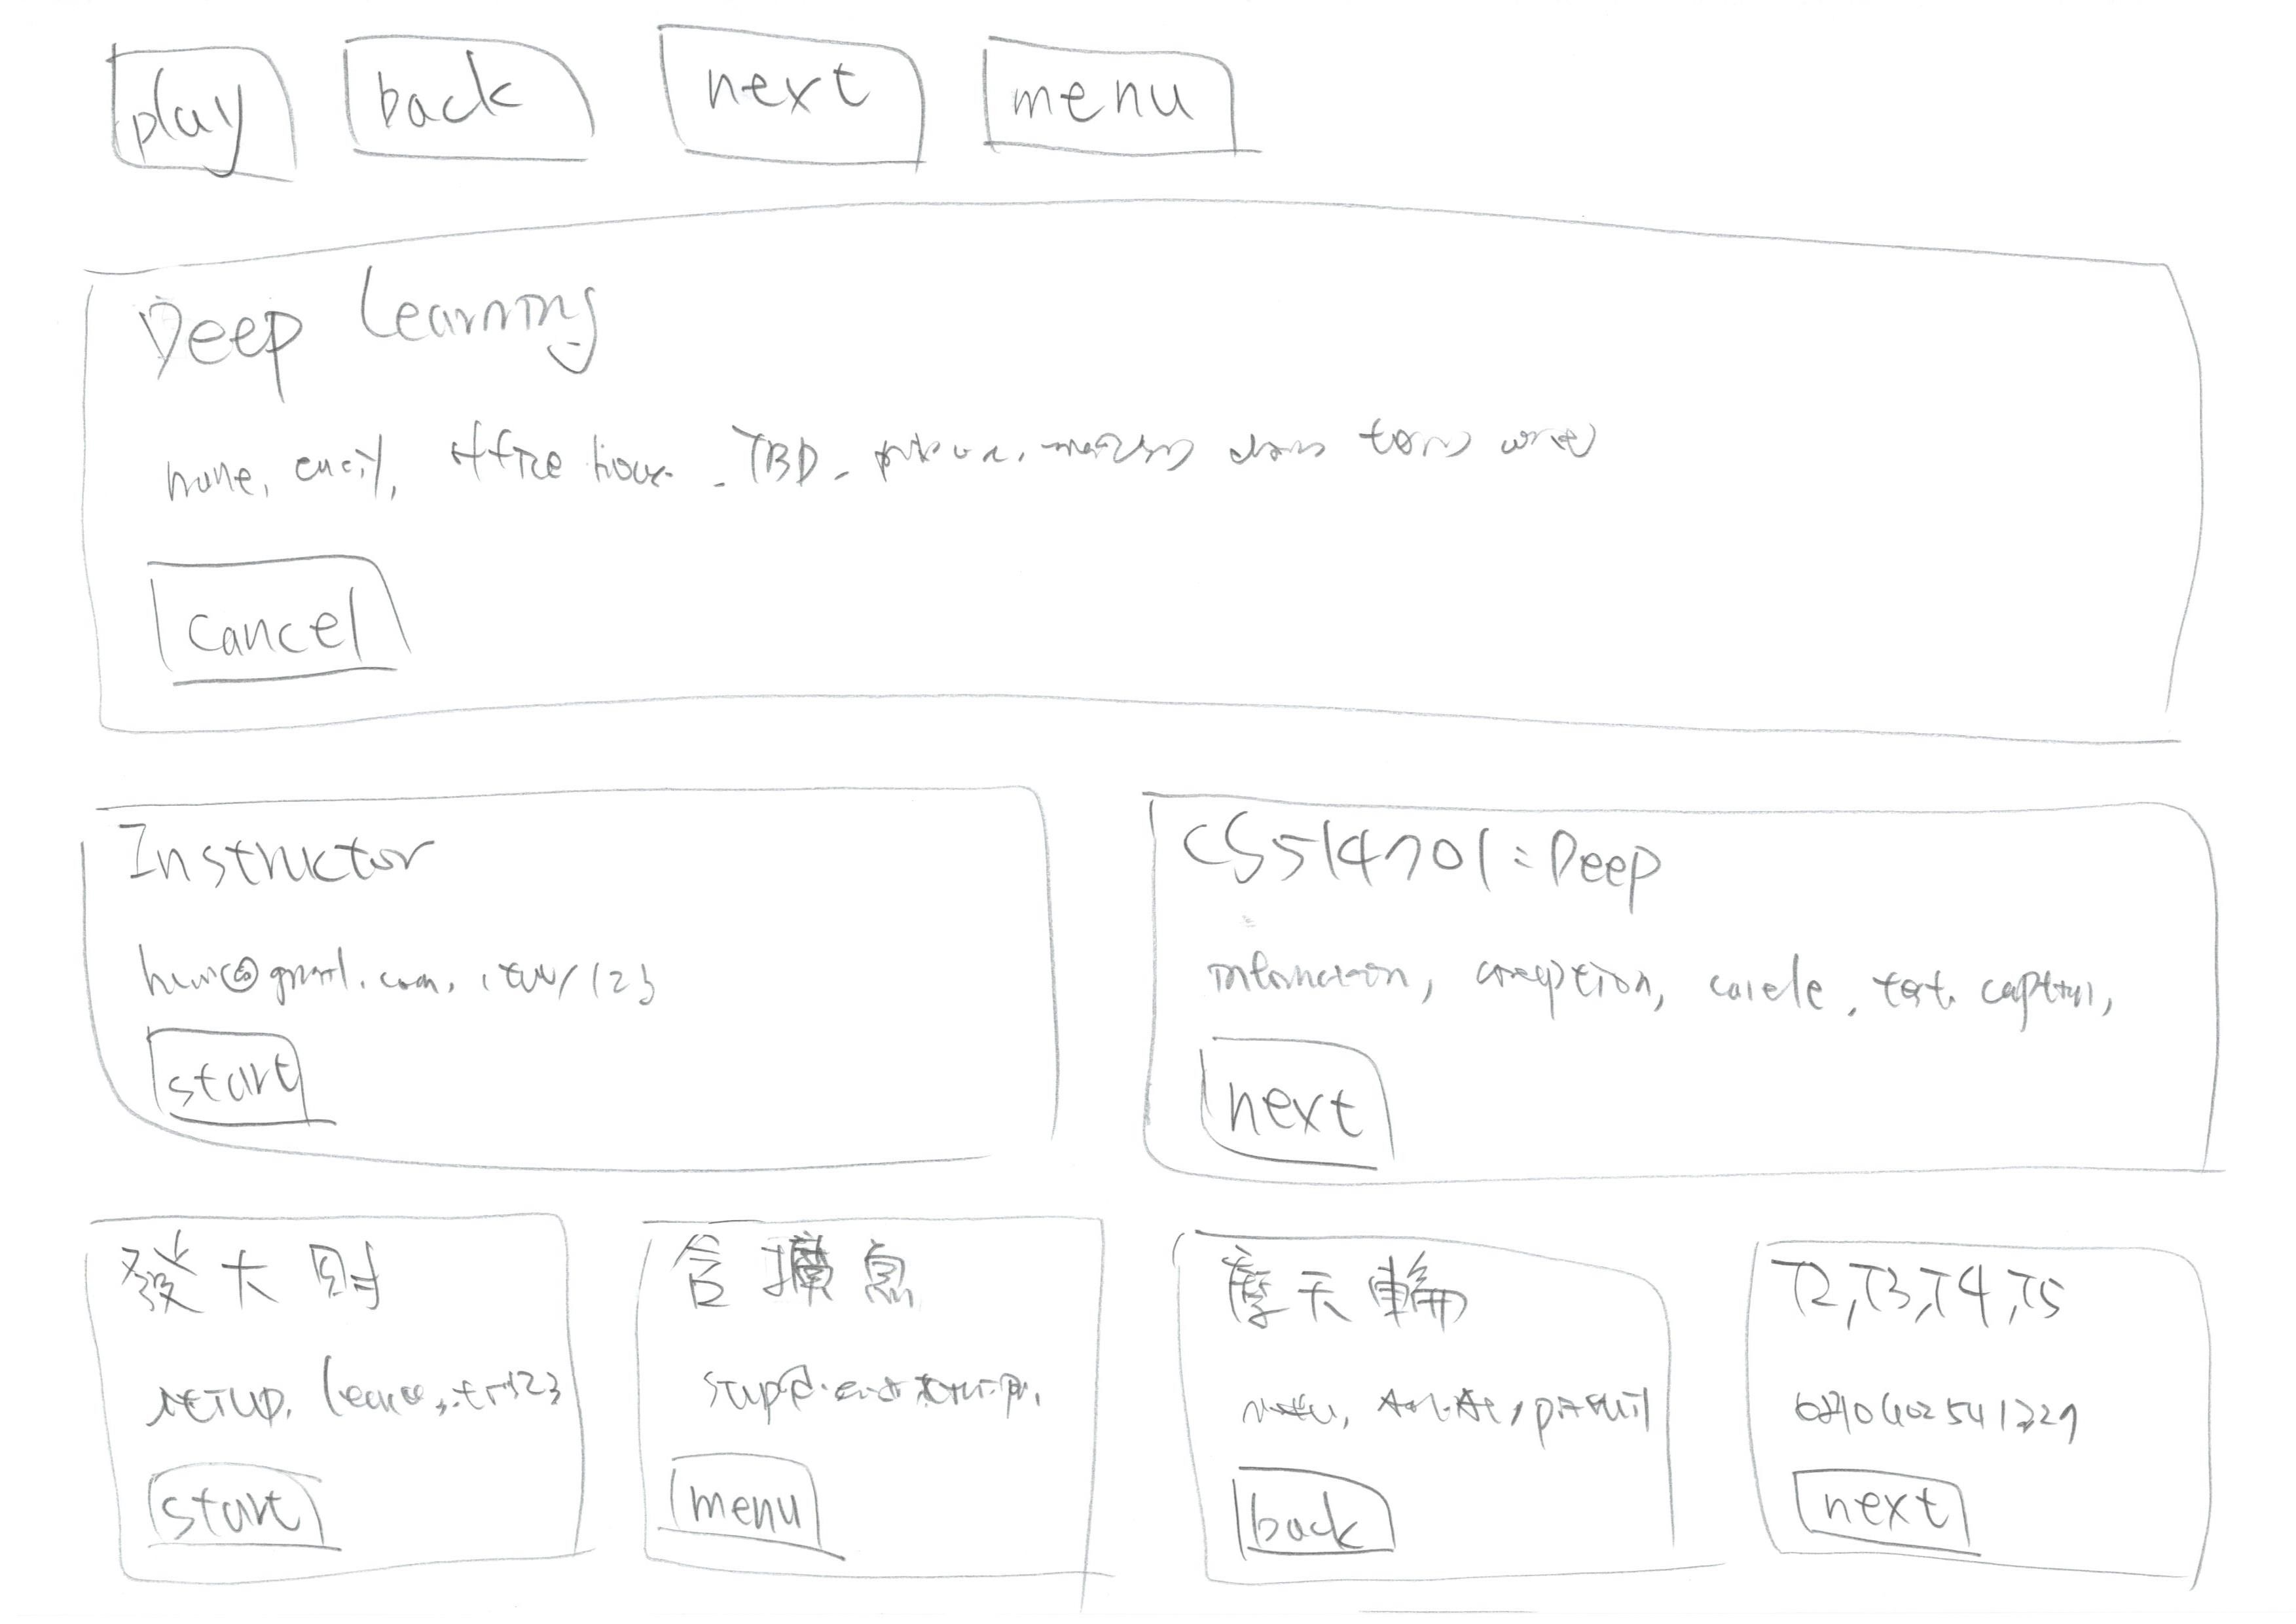back: (306, 0, 636, 178), (1222, 1464, 1415, 1570)
cancel: (127, 541, 440, 701)
double: (1113, 750, 2296, 1214), (40, 749, 1118, 1181)
menu: (958, 4, 1276, 228), (649, 1439, 858, 1580)
next: (638, 0, 944, 195), (1180, 1025, 1422, 1181), (1765, 1457, 1999, 1575)
play: (79, 23, 325, 204)
quadruple: (60, 1165, 633, 1613), (589, 1176, 1137, 1624), (1132, 1206, 1705, 1624), (1714, 1202, 2243, 1624)
row: (32, 195, 2296, 784), (32, 717, 2296, 1218), (32, 1193, 2296, 1624), (32, 0, 2296, 250)
single: (40, 197, 2243, 763)
small-title: (1190, 803, 1698, 944), (130, 251, 631, 385), (105, 810, 578, 884), (670, 1232, 972, 1341), (107, 1230, 420, 1334), (1208, 1251, 1501, 1345), (1797, 1260, 2101, 1329)
start: (107, 1438, 387, 1562), (125, 1016, 348, 1144)
text: (151, 387, 1638, 518), (1171, 914, 2141, 1039), (120, 916, 782, 1023), (130, 1339, 575, 1429), (1231, 1360, 1651, 1446), (708, 1350, 1053, 1443), (1797, 1369, 2141, 1457)
